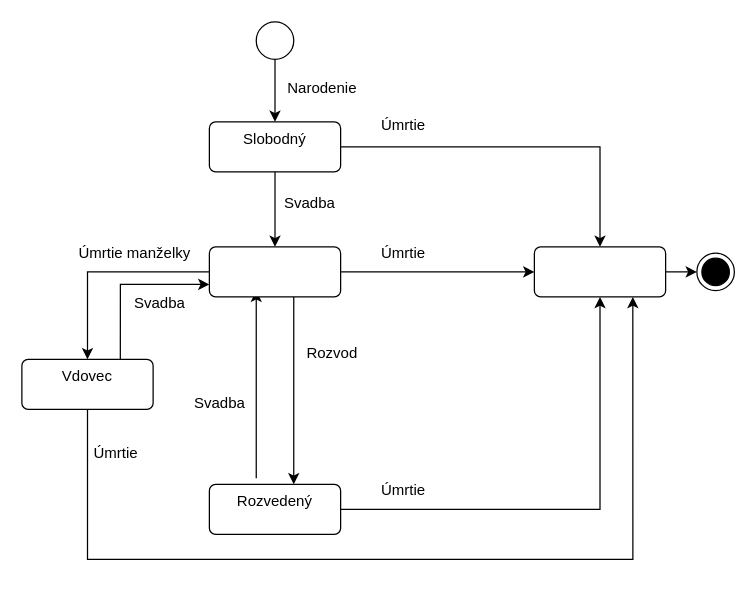
Image size: 756x591. Some labels were removed from this diagram. Each missing label, with the centre of its shape:
Mŕtvy: point 599,271
Ženatý: point 274,271
